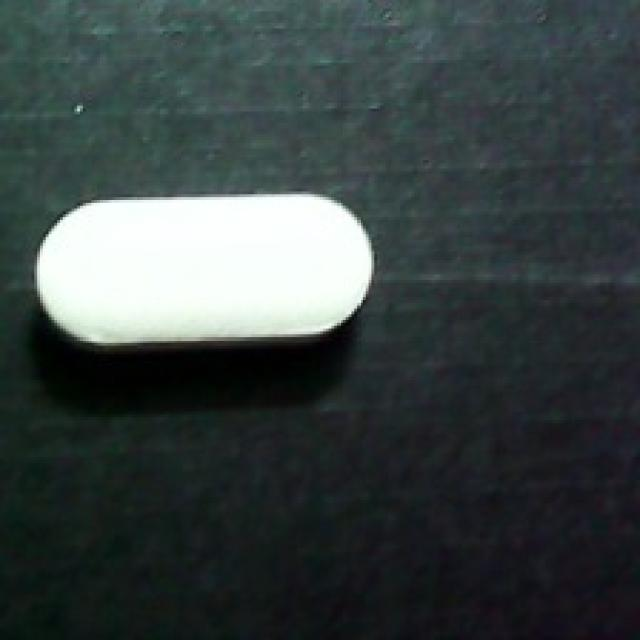no-defect: (31, 186, 383, 360)
